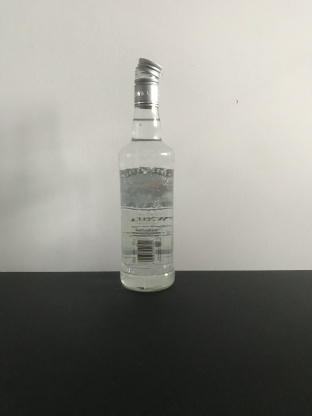nakretka: (132, 54, 163, 109)
